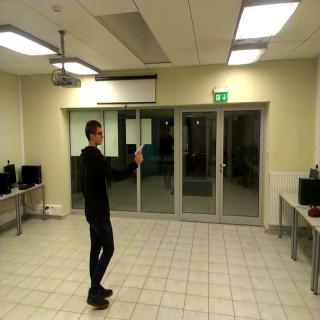gun: (133, 136, 148, 166)
